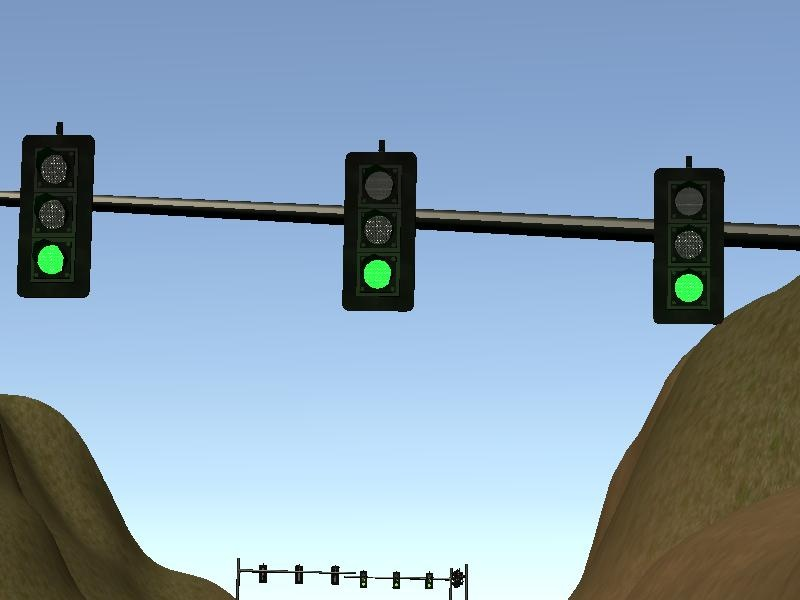traffic_light_green: (2, 121, 799, 328)
